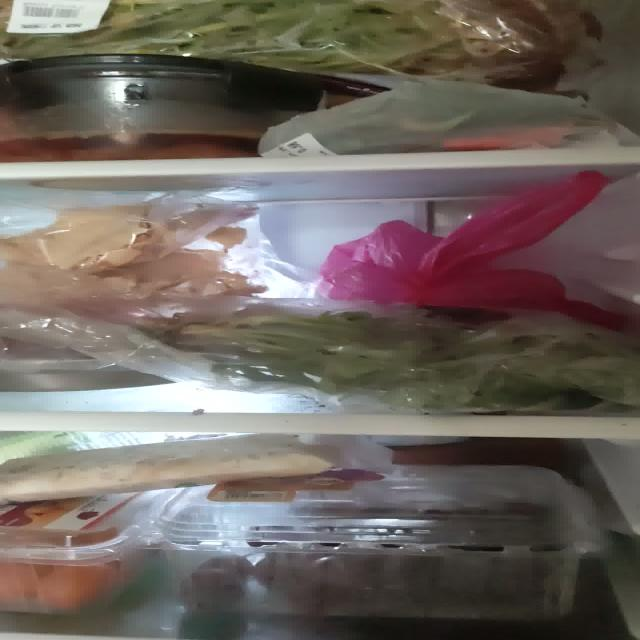grape: (175, 501, 564, 615)
leafy_greens: (177, 310, 635, 412), (7, 0, 638, 61)
tempeh: (0, 435, 336, 503)
unknown_bag: (320, 170, 607, 304), (266, 76, 637, 163)
